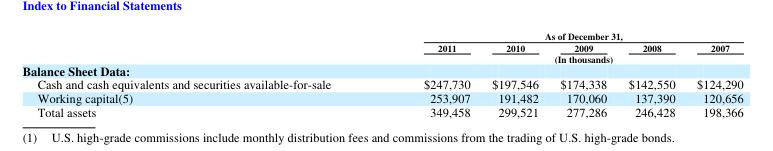table: (21, 29, 742, 119)
table column: (21, 29, 376, 119), (376, 29, 480, 119), (548, 29, 617, 119), (480, 29, 548, 119), (617, 29, 685, 119), (685, 29, 742, 119)
table column header: (21, 29, 742, 63)
table projected row header: (21, 63, 742, 77)
table row: (21, 104, 742, 119), (21, 63, 742, 77), (21, 90, 742, 104), (21, 77, 742, 90), (21, 29, 742, 41), (21, 41, 742, 52), (21, 52, 742, 63)
table spanning cell: (376, 29, 742, 41), (376, 52, 742, 63)
